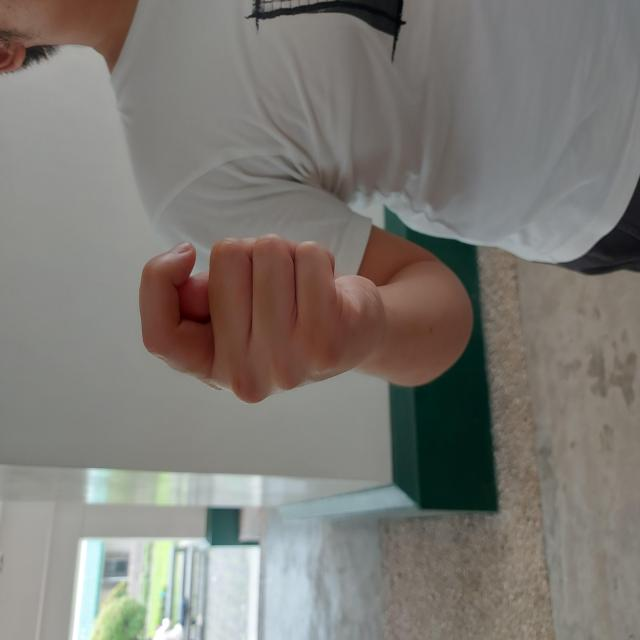T: (234, 136, 406, 382)
